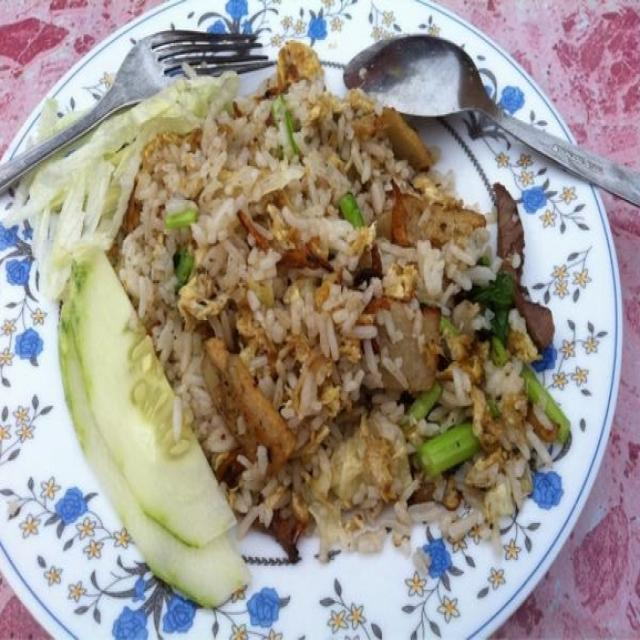米饭主食: (33, 41, 594, 586)
